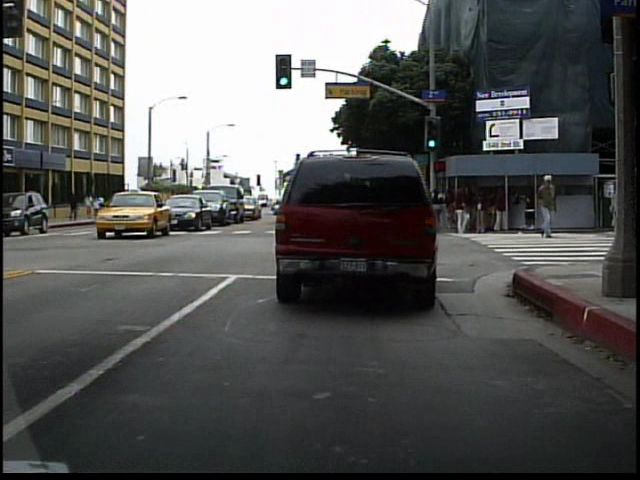person: (535, 171, 559, 241), (24, 194, 43, 230)
